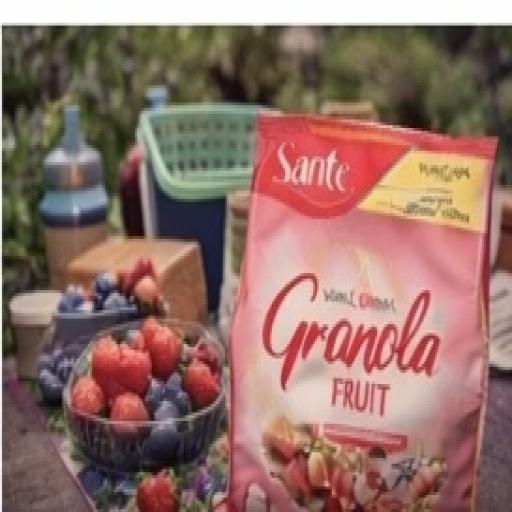granola: (195, 100, 496, 512)
